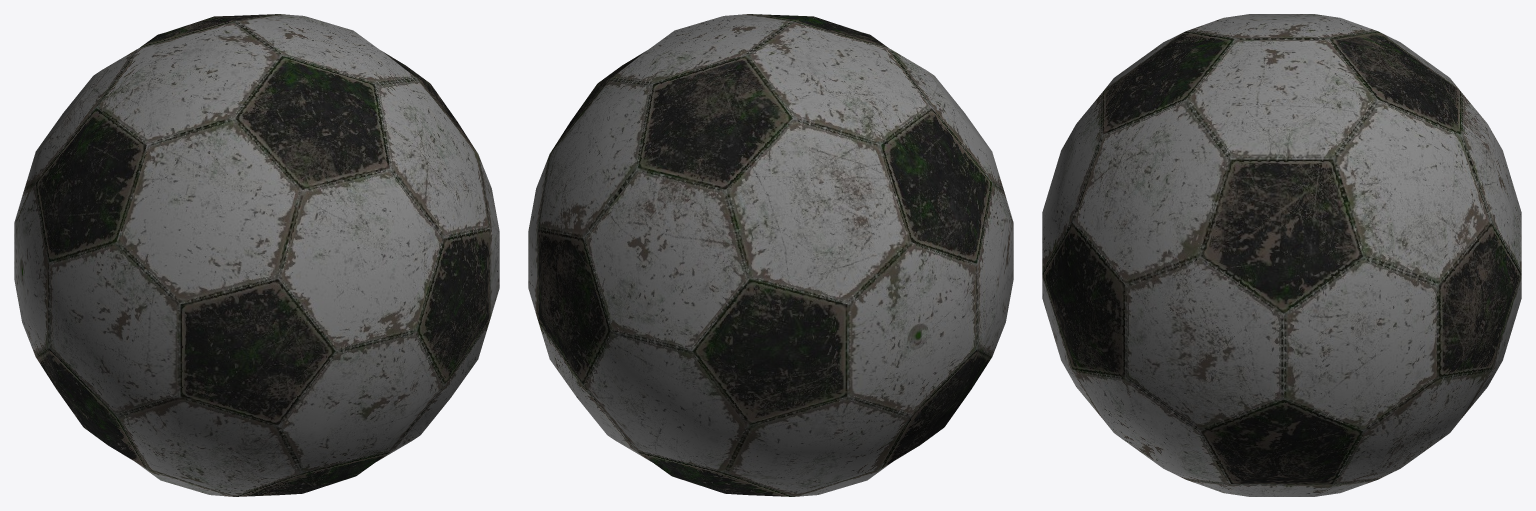
File: Ball.glb
The picture shows the model from 3 angles, left to right: view 1: azimuth 30°, elevation 25°; view 2: azimuth 150°, elevation 25°; view 3: azimuth 270°, elevation 25°; orthographic projection.
Parts seen in each view (by area): view 1: unnamed; view 2: unnamed; view 3: unnamed.
Boxes of the visible parts, box(x1,y1,x2,y2) form: unnamed: box(14, 14, 499, 496); unnamed: box(528, 14, 1013, 496); unnamed: box(1042, 14, 1521, 496).
Size of the model in its own units: 75.97 by 75.97 by 75.97.
1 material, 1 textured.
